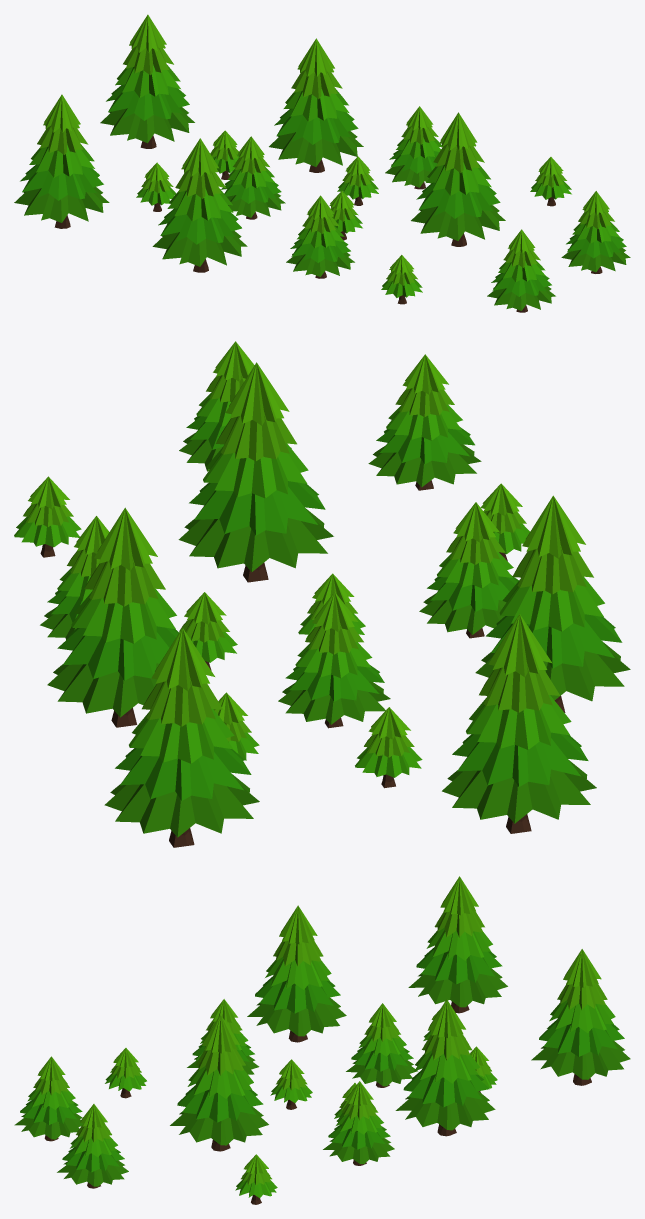
Rendered from forest-left.obj.
3 views of the same model, one above another, from view 1: azimuth 30°, elevation 25°; view 2: azimuth 150°, elevation 25°; view 3: azimuth 270°, elevation 25° (orthographic). The views are drawn at different scales.
Visible parts, largest first — view 1: Folha-Arvore.035_Circle.044, Folha-Arvore.117_Circle.117, Folha-Arvore.122_Circle.122, Folha-Arvore.040_Circle.049, Folha-Arvore.017_Circle.026, Folha-Arvore.121_Circle.121, Folha-Arvore.116_Circle.116, Folha-Arvore.016_Circle.025, Folha-Arvore.039_Circle.048, Folha-Arvore.034_Circle.043, Folha-Arvore.120_Circle.120, Folha-Arvore.033_Circle.042 (+37 smaller); view 2: Folha-Arvore.122_Circle.122, Folha-Arvore.117_Circle.117, Folha-Arvore.040_Circle.049, Folha-Arvore.121_Circle.121, Folha-Arvore.039_Circle.048, Folha-Arvore.116_Circle.116, Folha-Arvore.016_Circle.025, Folha-Arvore.038_Circle.047, Folha-Arvore.115_Circle.115, Folha-Arvore.015_Circle.024, Folha-Arvore.120_Circle.120, Folha-Arvore.017_Circle.026 (+44 smaller); view 3: Folha-Arvore.117_Circle.117, Folha-Arvore.040_Circle.049, Folha-Arvore.017_Circle.026, Folha-Arvore.035_Circle.044, Folha-Arvore.122_Circle.122, Folha-Arvore.016_Circle.025, Folha-Arvore.039_Circle.048, Folha-Arvore.121_Circle.121, Folha-Arvore.034_Circle.043, Folha-Arvore.116_Circle.116, Folha-Arvore.120_Circle.120, Folha-Arvore.015_Circle.024 (+28 smaller).
Part boxes in pixels (left/top/right/bottom): Folha-Arvore.035_Circle.044: left=152, top=230, right=247, bottom=266; Folha-Arvore.117_Circle.117: left=100, top=107, right=194, bottom=143; Folha-Arvore.122_Circle.122: left=411, top=205, right=505, bottom=240; Folha-Arvore.040_Circle.049: left=14, top=187, right=109, bottom=222; Folha-Arvore.017_Circle.026: left=269, top=131, right=363, bottom=166; Folha-Arvore.121_Circle.121: left=416, top=182, right=500, bottom=218; Folha-Arvore.116_Circle.116: left=106, top=84, right=189, bottom=120; Folha-Arvore.016_Circle.025: left=274, top=108, right=358, bottom=144; Folha-Arvore.039_Circle.048: left=20, top=164, right=103, bottom=200; Folha-Arvore.034_Circle.043: left=158, top=208, right=241, bottom=244; Folha-Arvore.120_Circle.120: left=425, top=162, right=491, bottom=195; Folha-Arvore.033_Circle.042: left=167, top=188, right=233, bottom=221; Folha-Arvore.122_Circle.122: left=178, top=508, right=333, bottom=571; Folha-Arvore.117_Circle.117: left=104, top=773, right=259, bottom=837; Folha-Arvore.040_Circle.049: left=442, top=759, right=596, bottom=823; Folha-Arvore.121_Circle.121: left=189, top=481, right=325, bottom=535; Folha-Arvore.039_Circle.048: left=452, top=732, right=588, bottom=786; Folha-Arvore.116_Circle.116: left=115, top=746, right=251, bottom=800; Folha-Arvore.016_Circle.025: left=57, top=626, right=178, bottom=680; Folha-Arvore.038_Circle.047: left=466, top=695, right=571, bottom=749; Folha-Arvore.115_Circle.115: left=129, top=708, right=234, bottom=763; Folha-Arvore.015_Circle.024: left=71, top=588, right=176, bottom=643; Folha-Arvore.120_Circle.120: left=203, top=443, right=308, bottom=498; Folha-Arvore.017_Circle.026: left=47, top=663, right=158, bottom=717; Folha-Arvore.117_Circle.117: left=531, top=1041, right=630, bottom=1079; Folha-Arvore.040_Circle.049: left=408, top=968, right=507, bottom=1007; Folha-Arvore.017_Circle.026: left=395, top=1091, right=495, bottom=1130; Folha-Arvore.035_Circle.044: left=247, top=997, right=346, bottom=1036; Folha-Arvore.122_Circle.122: left=170, top=1106, right=268, bottom=1145; Folha-Arvore.016_Circle.025: left=403, top=1070, right=489, bottom=1107; Folha-Arvore.039_Circle.048: left=416, top=947, right=502, bottom=984; Folha-Arvore.121_Circle.121: left=177, top=1085, right=263, bottom=1122; Folha-Arvore.034_Circle.043: left=255, top=976, right=340, bottom=1013; Folha-Arvore.116_Circle.116: left=539, top=1019, right=624, bottom=1056; Folha-Arvore.120_Circle.120: left=187, top=1066, right=253, bottom=1098; Folha-Arvore.015_Circle.024: left=413, top=1051, right=480, bottom=1083.
Size of the model in its own units: 17.23 by 4.87 by 20.23.
